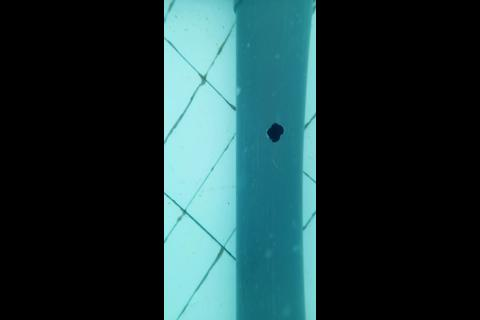kebocoran: (266, 121, 283, 144)
